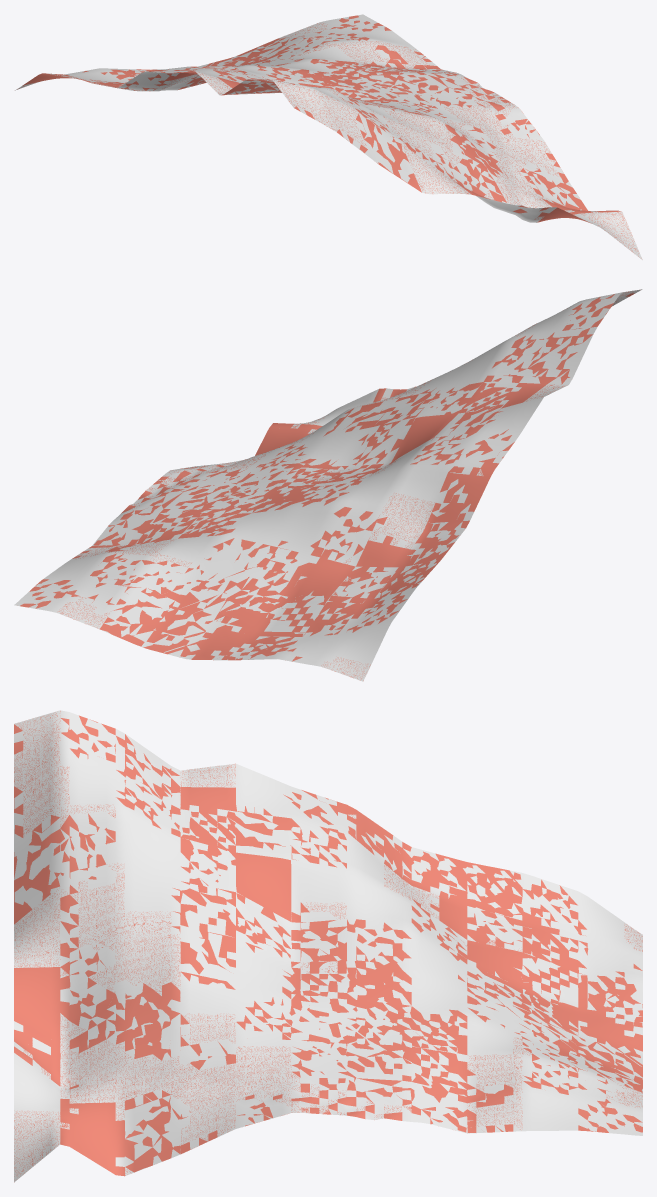
Rendered from Terrain04.fbx.
The picture shows the model from 3 angles, top to bottom: view 1: azimuth 30°, elevation 25°; view 2: azimuth 150°, elevation 25°; view 3: azimuth 270°, elevation 25°; orthographic projection. The views are drawn at different scales.
Visible parts, largest first — view 1: Terrain04_LOD0, UTM_Terrain04; view 2: Terrain04_LOD0, UTM_Terrain04; view 3: Terrain04_LOD0, UTM_Terrain04.
Boxes of the visible parts, x1,y1,x2,y2 form: Terrain04_LOD0: (15, 14, 642, 260); UTM_Terrain04: (17, 15, 638, 256); Terrain04_LOD0: (14, 289, 642, 681); UTM_Terrain04: (20, 291, 634, 680); Terrain04_LOD0: (14, 710, 642, 1181); UTM_Terrain04: (14, 711, 642, 1182).
Size of what is drawn, in the model's own units: 9801 by 6700 by 13600.
